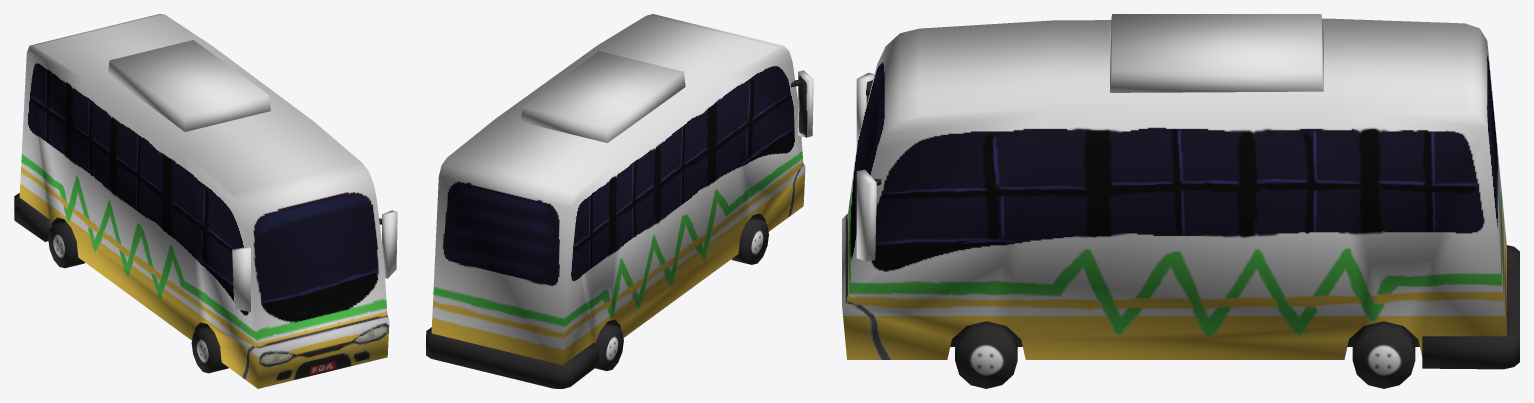
File: Onibus_2.glb
The picture shows the model from 3 angles, left to right: view 1: azimuth 30°, elevation 25°; view 2: azimuth 150°, elevation 25°; view 3: azimuth 270°, elevation 25°; orthographic projection. The views are drawn at different scales.
Parts seen in each view (by area): view 1: Lotacao; view 2: Lotacao; view 3: Lotacao.
Part boxes in pixels (x1,y1,x2,y2): Lotacao: [14, 14, 397, 388]; Lotacao: [426, 14, 813, 388]; Lotacao: [842, 14, 1519, 388].
Size of the model in its own units: 3.58 by 4.47 by 9.17.
Materials: 1 (1 with a texture image).
